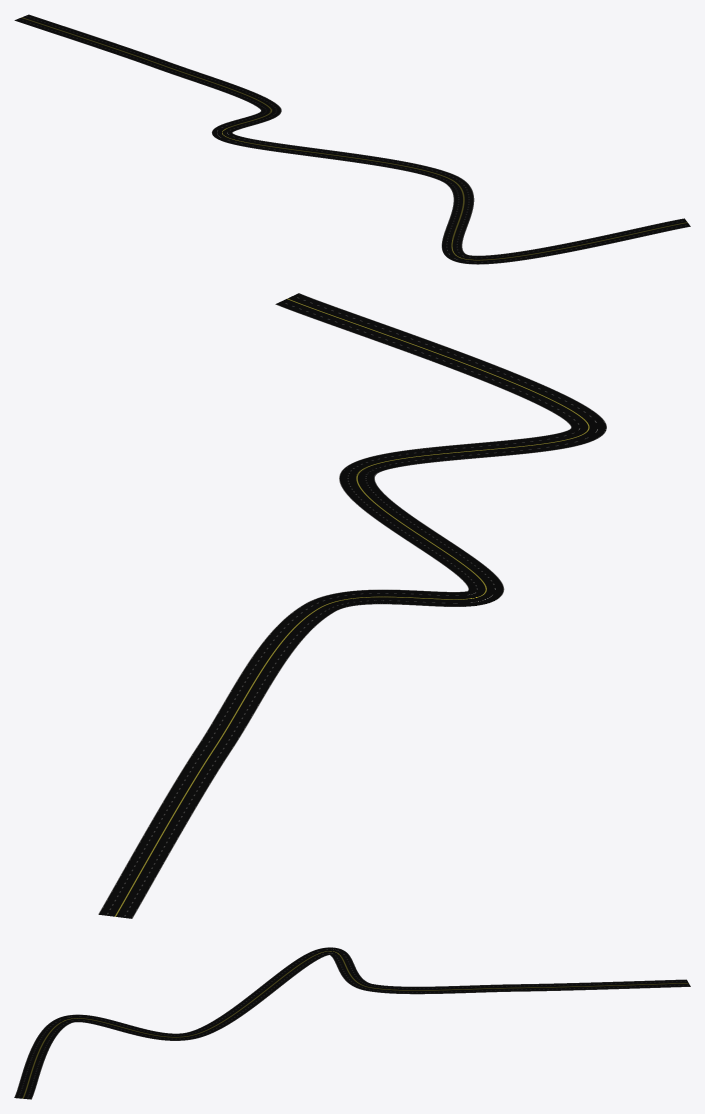
File: Road1.fbx
3 renders of one model, top to bottom at view 1: azimuth 30°, elevation 25°; view 2: azimuth 150°, elevation 25°; view 3: azimuth 270°, elevation 25°, orthographic. The views are drawn at different scales.
Parts seen in each view (by area): view 1: Markers5, Markers3, Markers4, Markers0, Markers1, Markers2; view 2: Markers5, Markers0, Markers1, Markers3, Markers4, Markers2; view 3: Markers3, Markers5, Markers0, Markers1, Markers4, Markers2.
Boxes of the visible parts, x1,y1,x2,y2 form: Markers5: (462,218,690,264); Markers3: (223,134,455,181); Markers4: (441,175,474,262); Markers0: (14,14,167,67); Markers1: (153,61,279,109); Markers2: (212,107,281,141); Markers5: (275,293,605,426); Markers0: (98,747,230,918); Markers1: (197,603,331,751); Markers3: (339,473,504,591); Markers4: (340,424,606,475); Markers2: (306,589,503,613); Markers3: (191,949,326,1038); Markers5: (14,1017,70,1099); Markers0: (517,979,690,991); Markers1: (369,984,519,994); Markers4: (60,1014,197,1040); Markers2: (320,947,371,991).
Size of the model in its own units: 33351 by 3788 by 75109.
Materials: 2 (2 with a texture image).
